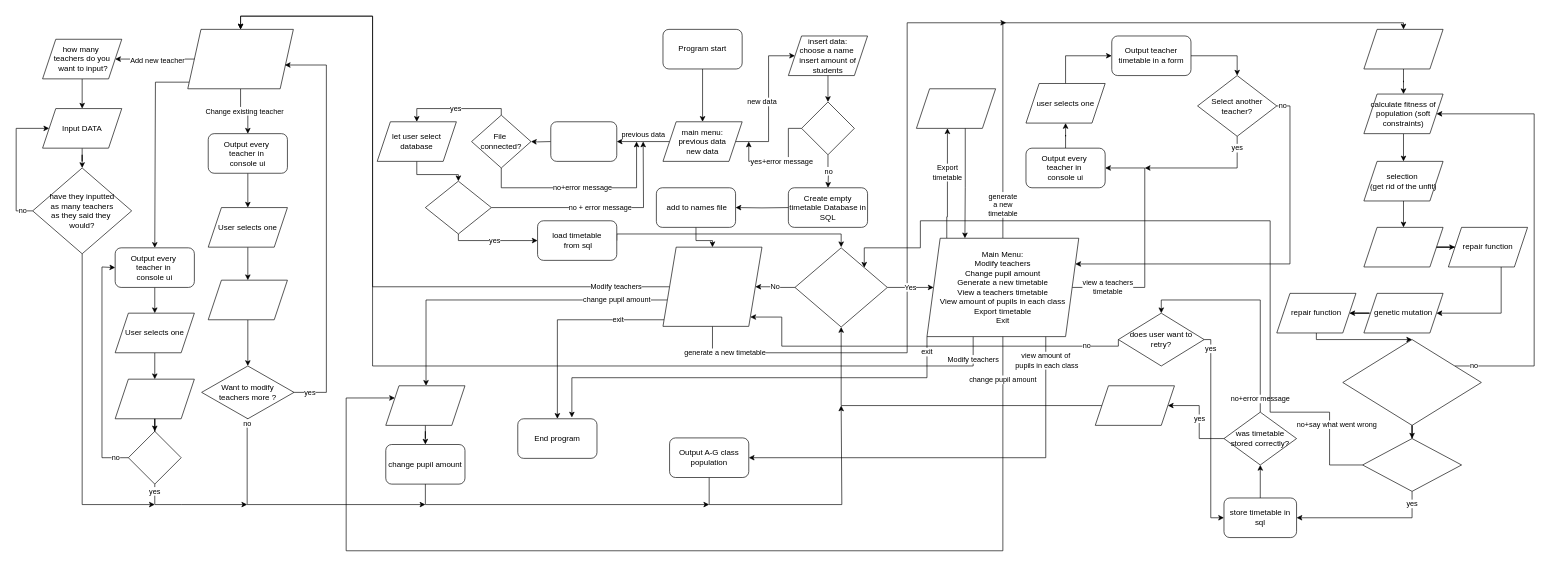
The diagram is 1551 pixels wide and 568 high, and some of its shapes have lost their labels. The shapes that lost their labels are listed below. From the top down, each one's centre as x and y in pixels, then its label:
At (x=240, y=59): "modify menu: Add new teacher Change existing teacher Delete teacher".
At (x=1403, y=49): "Generate initial population".
At (x=827, y=128): "is the name already taken?".
At (x=956, y=108): "Export timetable in export folder with custom file type".
At (x=583, y=141): "access databasenames file".
At (x=458, y=207): "SQL connected?".
At (x=1403, y=247): "crossbreeding".
At (x=247, y=300): "Allows user to change specifics".
At (x=712, y=286): "Main Menu: Modify teachers Change pupil amount Generate timetable Exit".
At (x=840, y=287): "is there a generated timetable stored?".
At (x=154, y=399): "Delete the one selected".
At (x=1411, y=382): "criteria met? (1500 loops / perfect timetable / no fitness change for 100 loops)".
At (x=425, y=405): "Get user input".
At (x=1134, y=405): "generated timetable stored = true".
At (x=154, y=457): "does user want to stop deleting?".
At (x=1412, y=464): "was usable timetable generated?".
